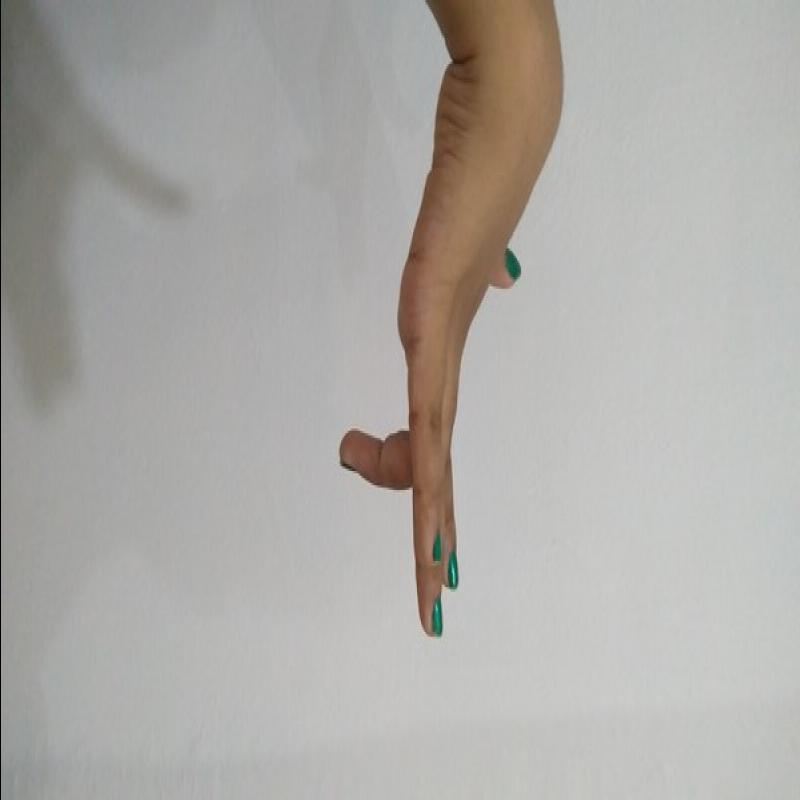Pathaaka: (330, 66, 570, 644)
